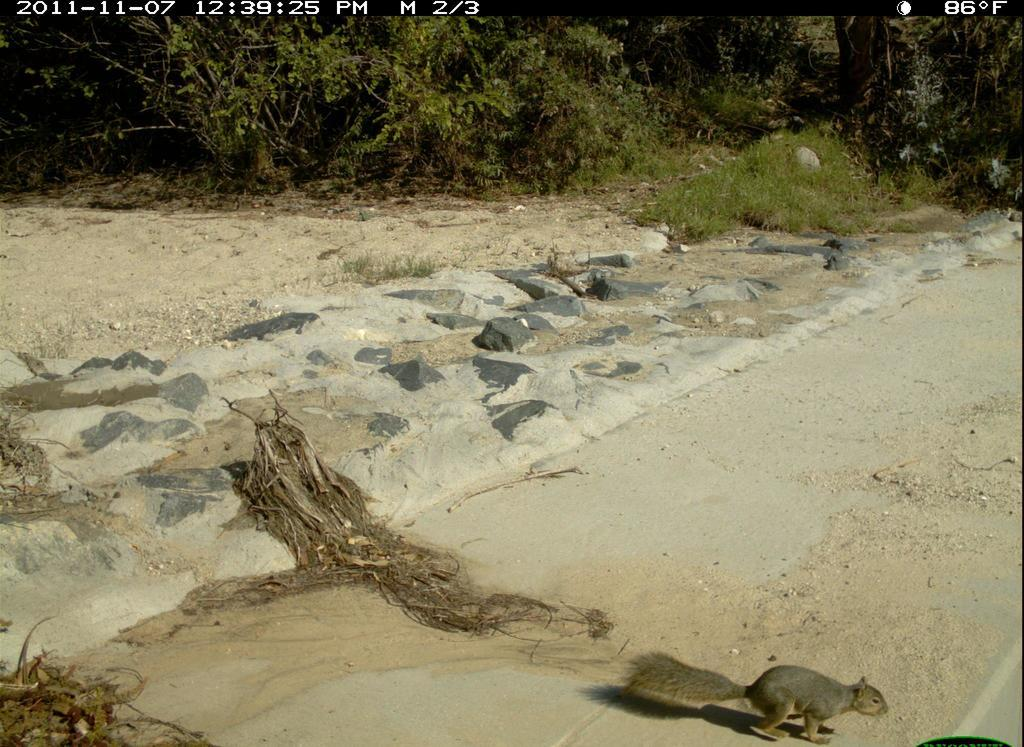squirrel: (624, 639, 897, 745)
